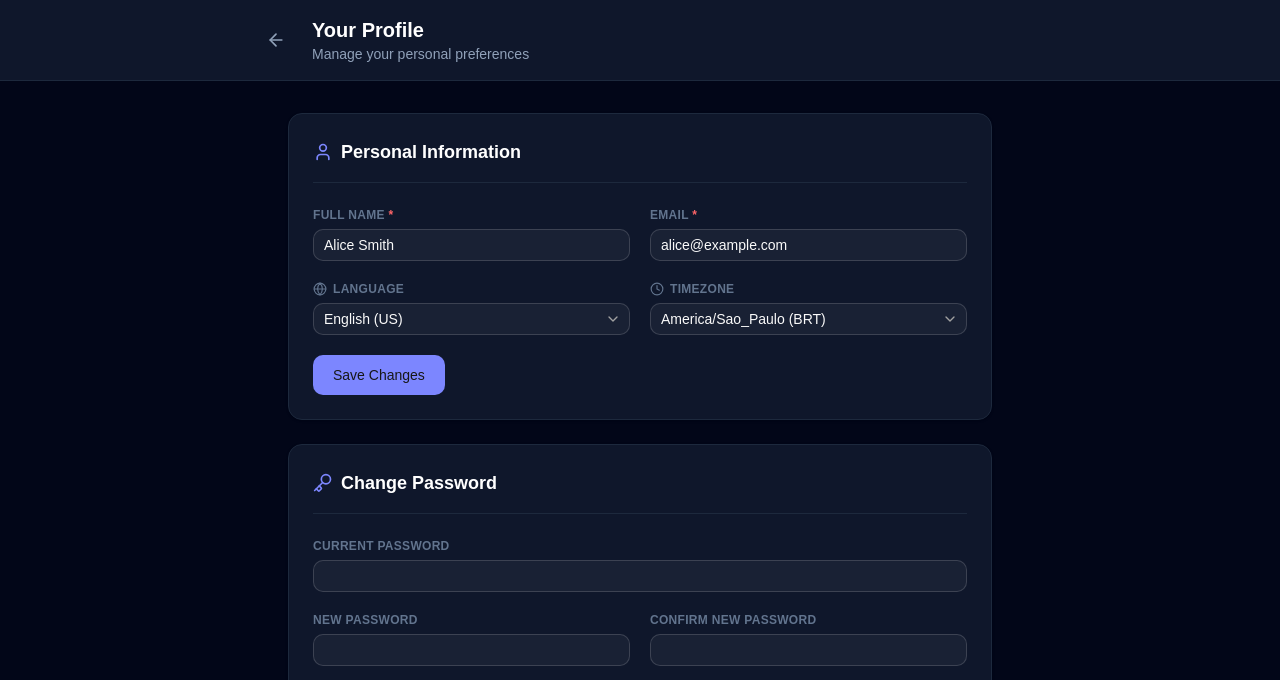
Test case: ProfileRoute — change password › shows "New passwords do not match" error when passwords differ
Type "OldPass1" into the password field labelled "Current Password" at x=640, y=576, box [313, 560, 967, 592]
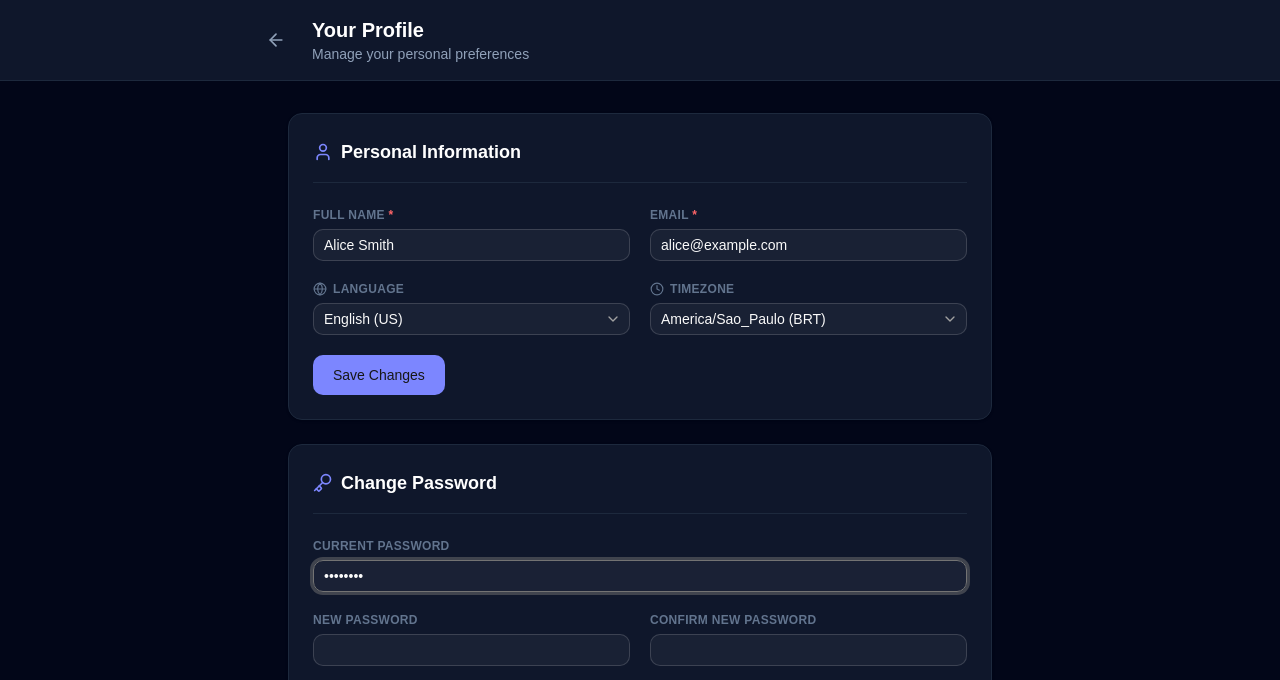
Type "NewPass1" into the password field labelled "New Password" at x=472, y=650, box [313, 634, 630, 666]
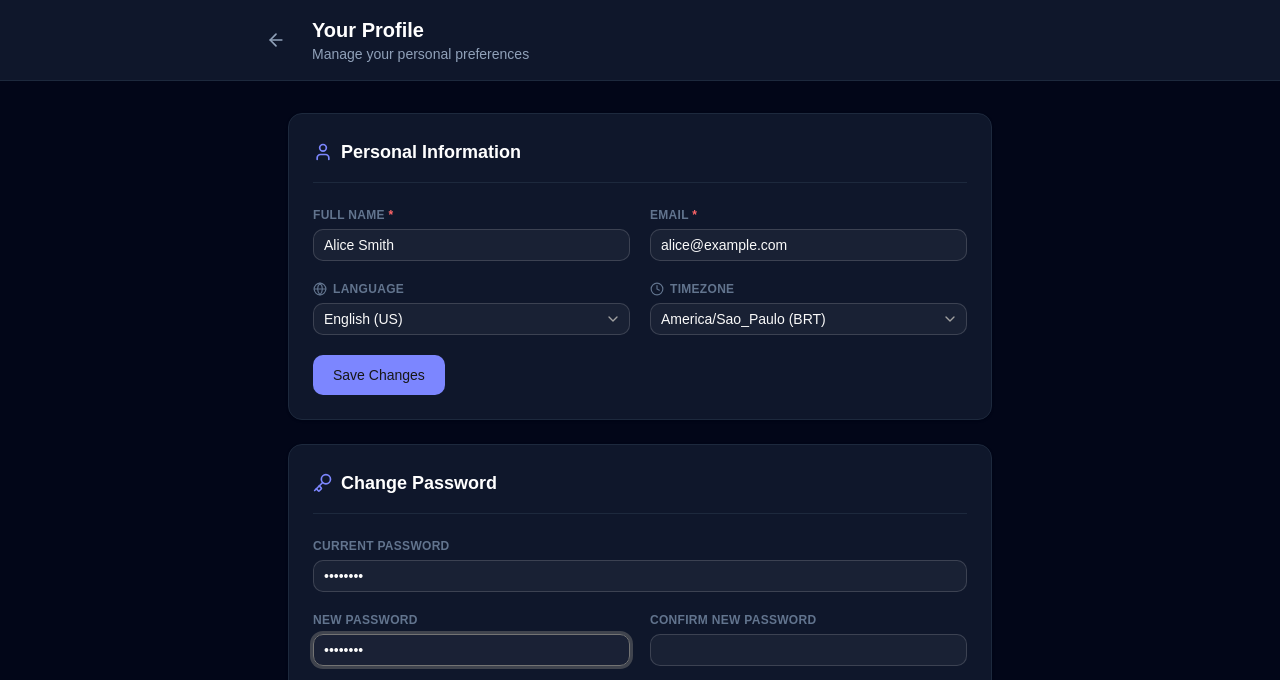
Type "DifferentPass" into the password field labelled "Confirm New Password" at x=808, y=650, box [650, 634, 967, 666]
(page scrolled)
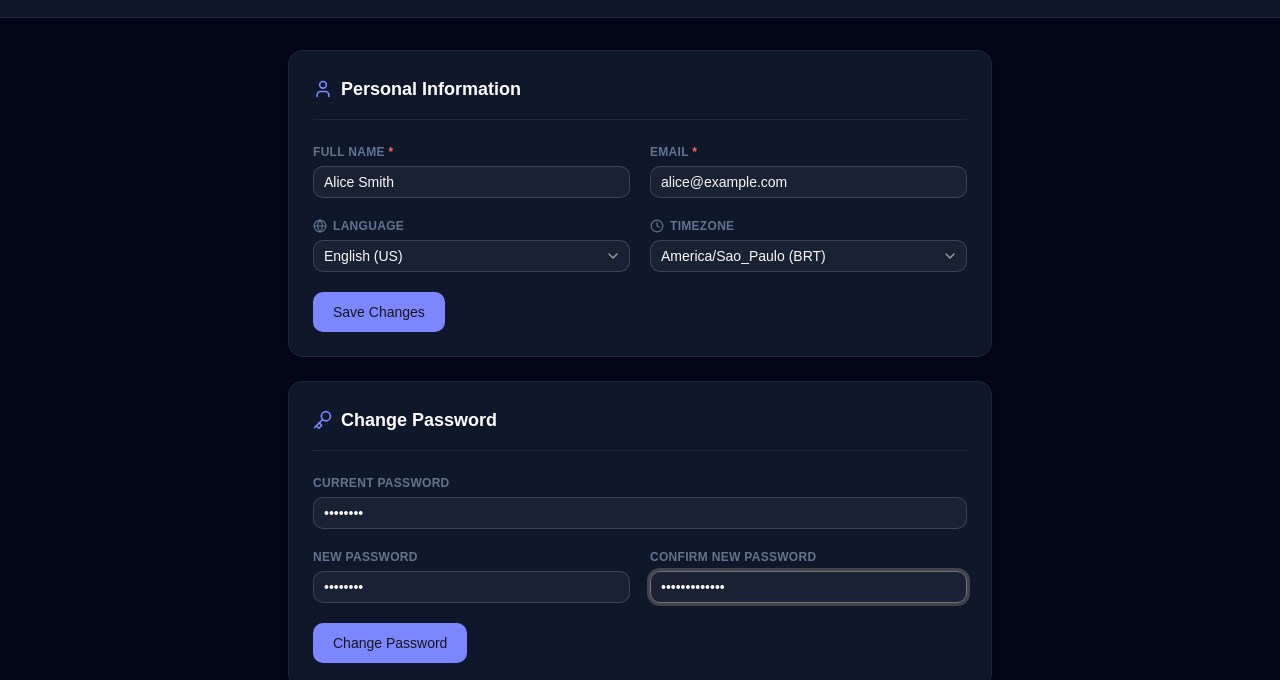
Click the button "Change Password" at x=390, y=643, box [313, 623, 467, 663]
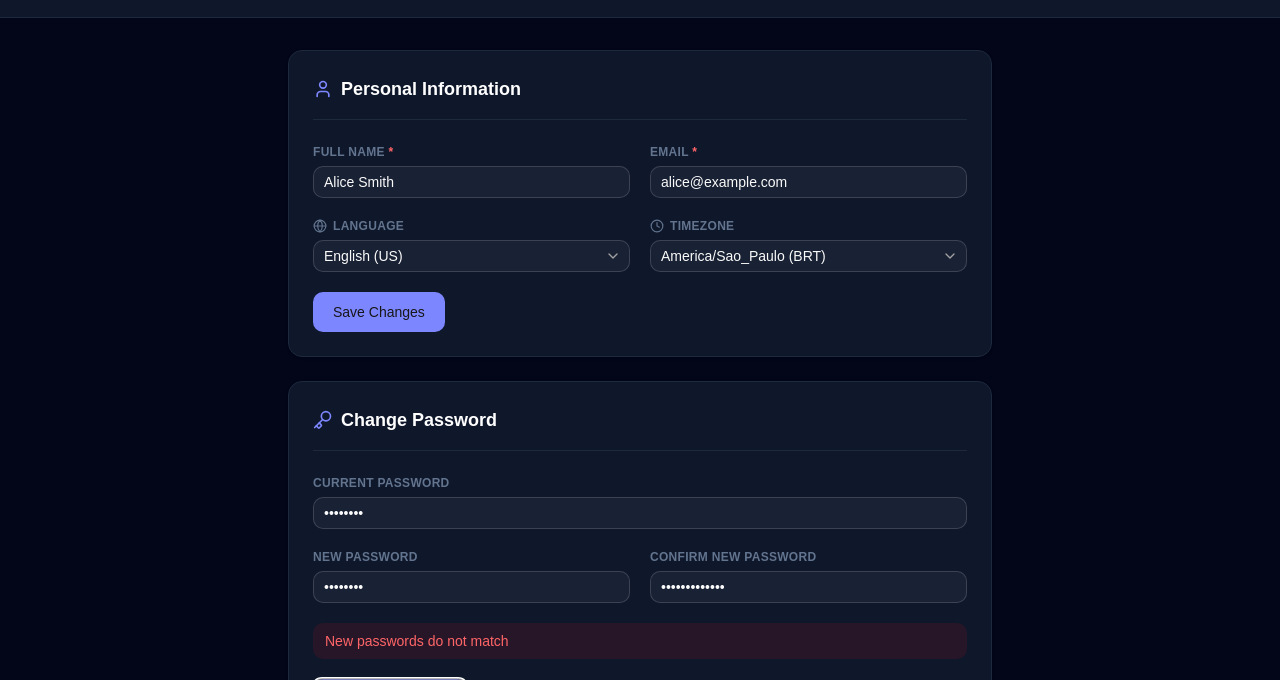
Result: the message reads "New passwords do not match" at [325, 633, 509, 649]
